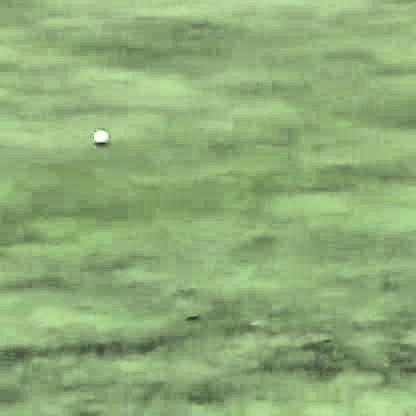golfball: (92, 127, 105, 140)
